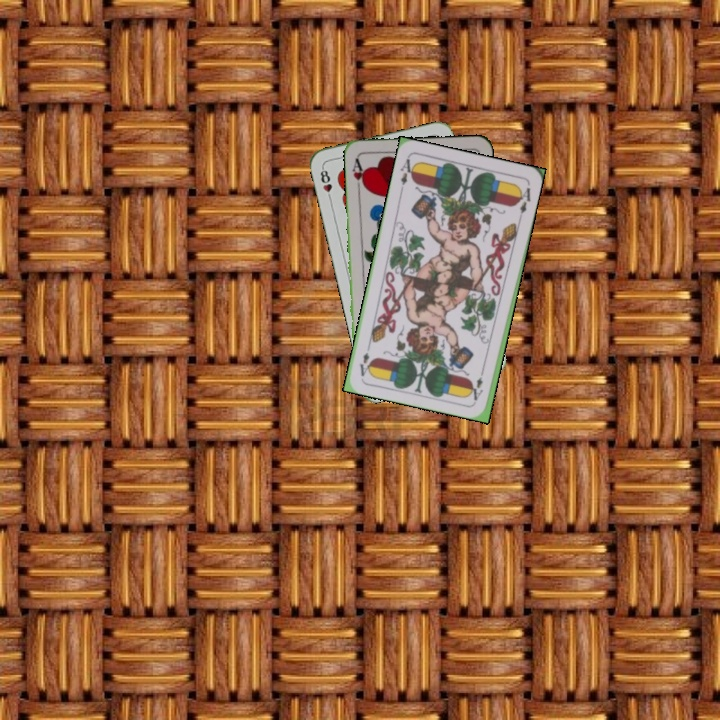EA: (396, 153, 418, 187), (469, 364, 487, 403)
H8: (316, 163, 335, 203)
HA: (348, 154, 368, 195)
